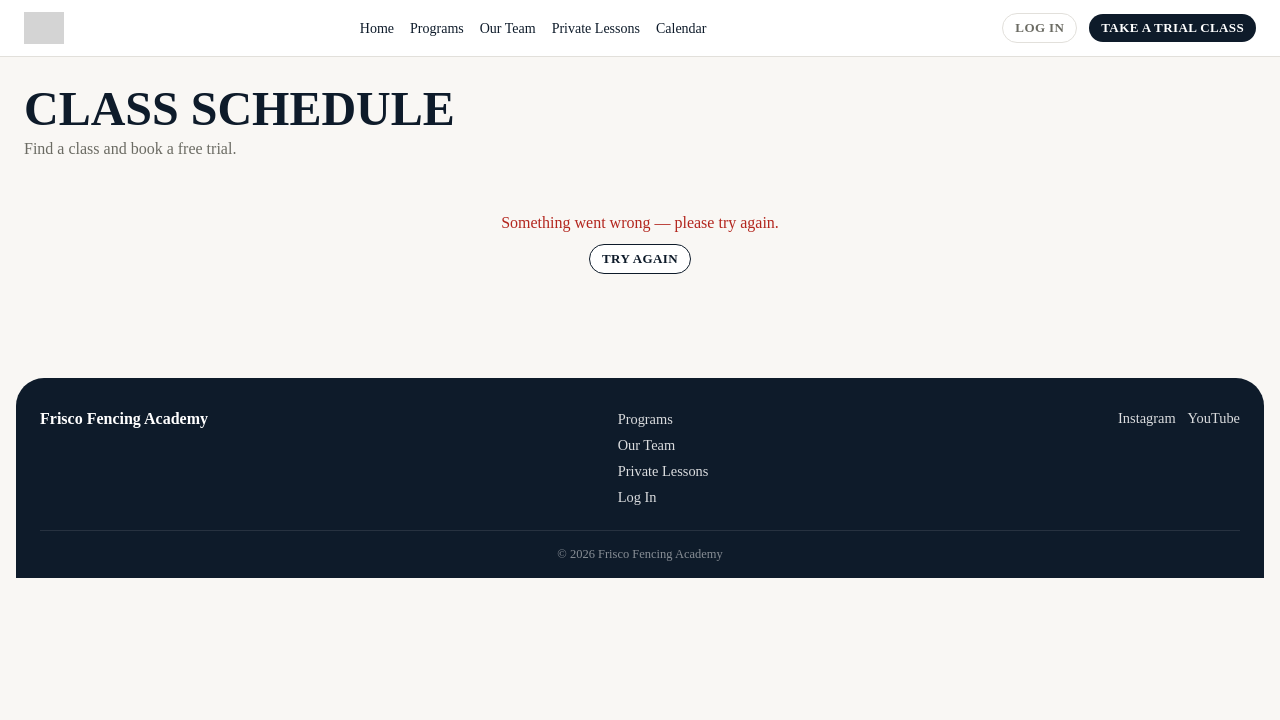
it: ClassesPage › shows LoadError with a working retry on a failed fetch
Expected: the message "Something went wrong — please try again. Try again" is shown, [501,214,779,274]
Click the button "Try again".
click(640, 259)  # box [589,244,691,274]
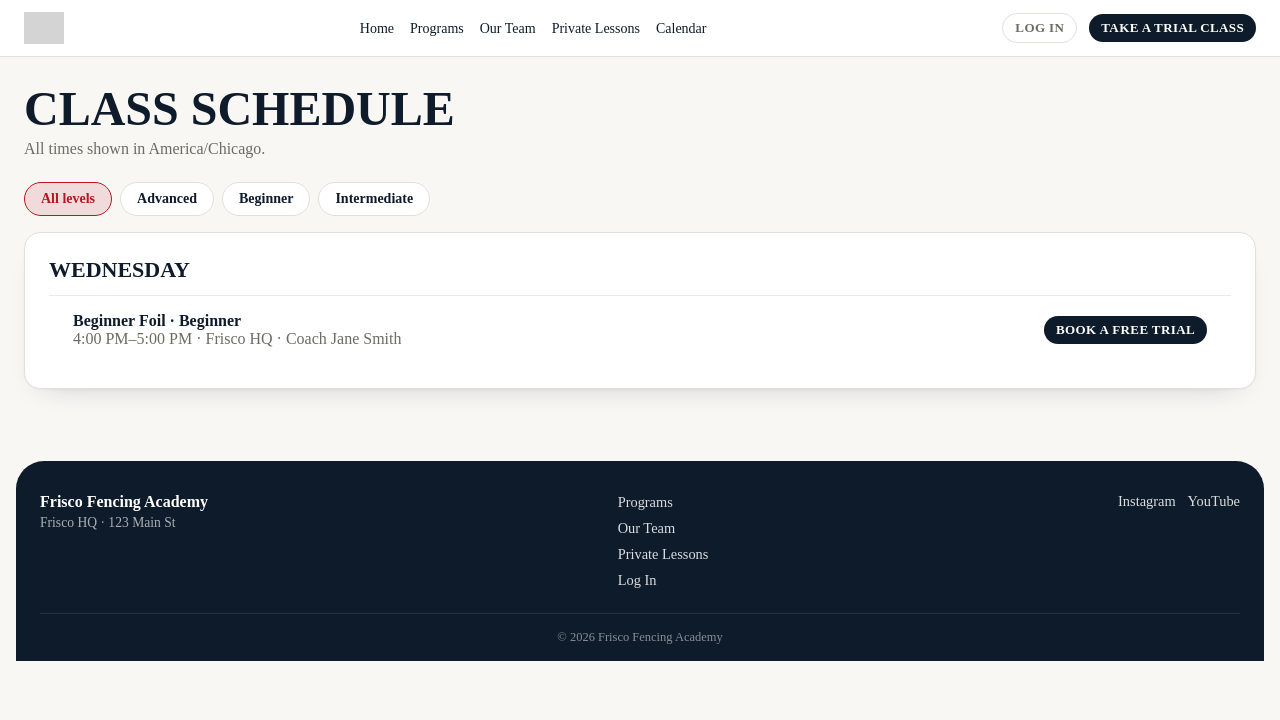
Result: the text "Beginner Foil · Beginner" is shown at [73,312,241,329]
